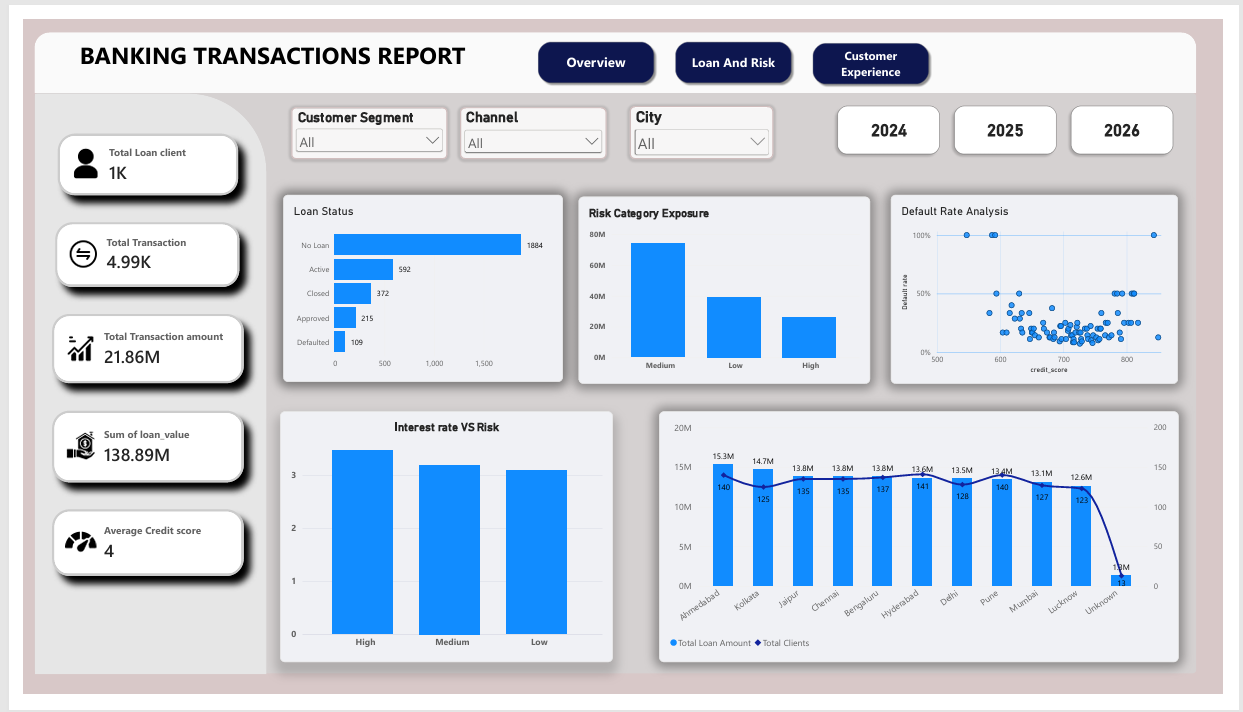

This screenshot's page, from the dashboard's own definition file:
{"tool":"powerbi","page":{"name":"Loan And Risk","canvas":[1920,1080],"ordinal":1},"visuals":[{"type":"shape","box":[16.7,116.7,1860,930],"z":0},{"type":"shape","box":[17.5,117.5,370,930],"z":1000},{"type":"shape","box":[16.7,20,1860,96.7],"z":2000},{"type":"textbox","box":[42.5,30,710,75],"z":3000},{"type":"lineStackedColumnComboChart","title":"Interest rate VS Risk","fields":{"Category":["banking_analysis2 banking_data.risk_category"],"Y":["Avg(banking_analysis2 banking_data.interest_rate)"]},"box":[410,626.7,532.5,402.5],"z":4000},{"type":"cardVisual","fields":{"Data":["banking_analysis2 banking_data.Total Loan client"]},"box":[54.3,181.9,288.2,99.2],"z":5000},{"type":"cardVisual","fields":{"Data":["Count(banking_analysis2 banking_data.transaction_id)"]},"box":[49.6,324.3,295.3,104],"z":6000},{"type":"cardVisual","fields":{"Data":["Sum(banking_analysis2 banking_data.transaction_amount)"]},"box":[44.9,471.3,307.1,111],"z":7000},{"type":"cardVisual","fields":{"Data":["Sum(banking_analysis2 vw_loan_analysis.loan_value)"]},"box":[44.9,625.5,307.1,115.8],"z":8000},{"type":"cardVisual","fields":{"Data":["CountNonNull(banking_analysis2 vw_customer_segment.avg_credit_score)"]},"box":[44.9,784.4,307.1,106.3],"z":9000},{"type":"advancedSlicerVisual","fields":{"Values":["banking_analysis2 banking_data.transaction_date.Variation.Date Hierarchy.Year"]},"box":[1295,130,552.5,92.5],"z":10000},{"type":"slicer","fields":{"Values":["banking_analysis2 banking_data.customer_segment"]},"box":[427.5,140,250,82.5],"z":11000},{"type":"slicer","fields":{"Values":["banking_analysis2 banking_data.channel"]},"box":[697.5,140,235,82.5],"z":12000},{"type":"slicer","fields":{"Values":["banking_analysis2 banking_data.city"]},"box":[970,137.5,230,85],"z":13000},{"type":"actionButton","title":"Overview","box":[816,28,200,80],"z":14000},{"type":"actionButton","box":[1036,28,200,80],"z":15000},{"type":"actionButton","box":[1256,30,200,80],"z":16000},{"type":"clusteredBarChart","title":"Loan Status","fields":{"Category":["banking_analysis2 banking_data.loan_status"],"Y":["Count(banking_analysis2 banking_data.customer_id)"]},"box":[415,280,447.5,300],"z":17000},{"type":"columnChart","title":"Risk Category Exposure","fields":{"Category":["banking_analysis2 banking_data.risk_category"],"Y":["Sum(banking_analysis2 banking_data.loan_amount)"]},"box":[887.5,282.5,467.5,300],"z":18000},{"type":"scatterChart","title":"Default Rate Analysis","fields":{"X":["banking_analysis2 banking_data.credit_score"],"Y":["banking_analysis2 banking_data.Default rate"]},"box":[1387.5,280,460,302.5],"z":19000},{"type":"lineClusteredColumnComboChart","fields":{"Category":["banking_analysis2 banking_data.city"],"Y":["Sum(banking_analysis2 banking_data.loan_amount)"],"Y2":["banking_analysis2 banking_data.Total Loan client"]},"box":[1016.7,626.7,832.5,402.5],"z":19001}]}

Visuals, with their boxes in screenshot pixels (x1, y1, x2, y2), scaled from the page's 1920x1080 canvas onto the 1243x712 screenshot:
shape: bbox(11, 77, 1215, 690)
shape: bbox(11, 77, 251, 691)
shape: bbox(11, 13, 1215, 77)
textbox: bbox(28, 20, 487, 69)
"Interest rate VS Risk" lineStackedColumnComboChart: bbox(265, 413, 610, 679)
cardVisual - banking_analysis2 banking_data.Total Loan client: bbox(35, 120, 222, 185)
cardVisual - Count(banking_analysis2 banking_data.transaction_id): bbox(32, 214, 223, 282)
cardVisual - Sum(banking_analysis2 banking_data.transaction_amount): bbox(29, 311, 228, 384)
cardVisual - Sum(banking_analysis2 vw_loan_analysis.loan_value): bbox(29, 412, 228, 489)
cardVisual - CountNonNull(banking_analysis2 vw_customer_segment.avg_credit_score): bbox(29, 517, 228, 587)
advancedSlicerVisual - banking_analysis2 banking_data.transaction_date.Variation.Date Hierarchy.Year: bbox(838, 86, 1196, 147)
slicer - banking_analysis2 banking_data.customer_segment: bbox(277, 92, 439, 147)
slicer - banking_analysis2 banking_data.channel: bbox(452, 92, 604, 147)
slicer - banking_analysis2 banking_data.city: bbox(628, 91, 777, 147)
"Overview" actionButton: bbox(528, 18, 658, 71)
actionButton: bbox(671, 18, 800, 71)
actionButton: bbox(813, 20, 943, 73)
"Loan Status" clusteredBarChart: bbox(269, 185, 558, 382)
"Risk Category Exposure" columnChart: bbox(575, 186, 877, 384)
"Default Rate Analysis" scatterChart: bbox(898, 185, 1196, 384)
lineClusteredColumnComboChart - banking_analysis2 banking_data.city x Sum(banking_analysis2 banking_data.loan_amount): bbox(658, 413, 1197, 679)
